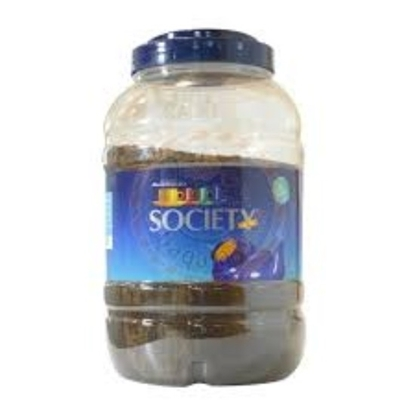society: (107, 169, 303, 283)
